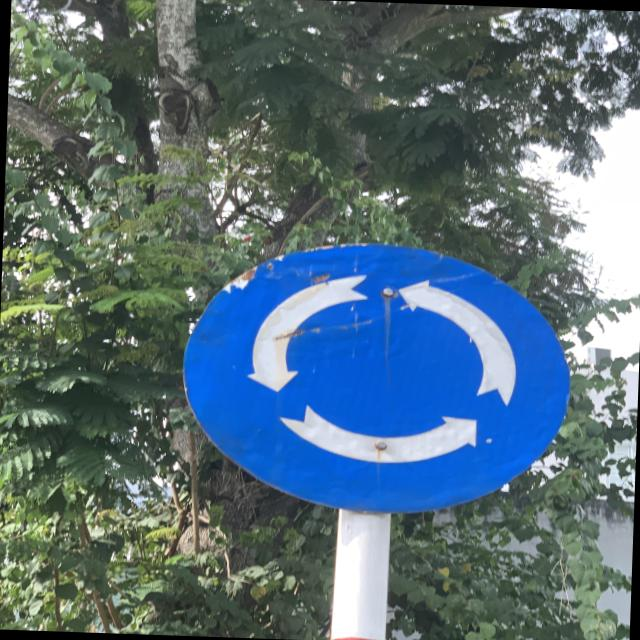Xe_Bus: (178, 236, 580, 516)
